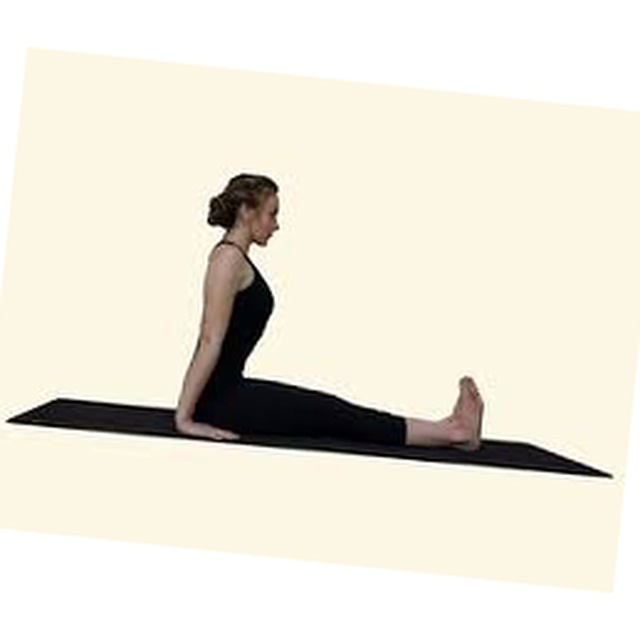Staff_Pose: (175, 173, 486, 451)
